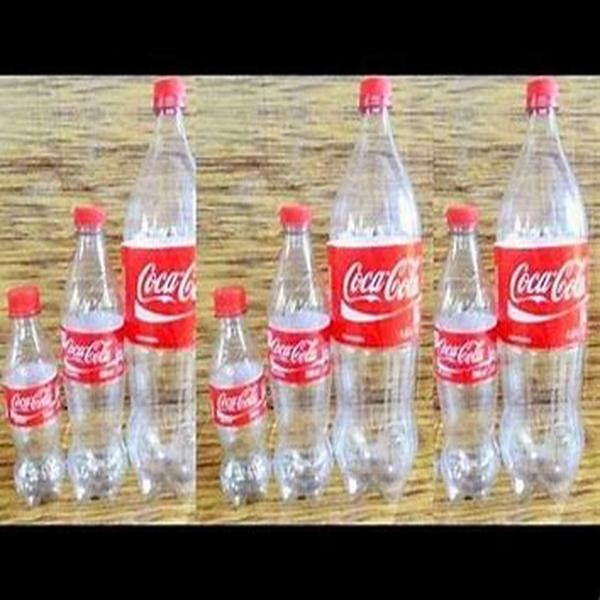tutuma: (493, 79, 592, 514), (264, 203, 337, 514), (4, 276, 56, 514)
